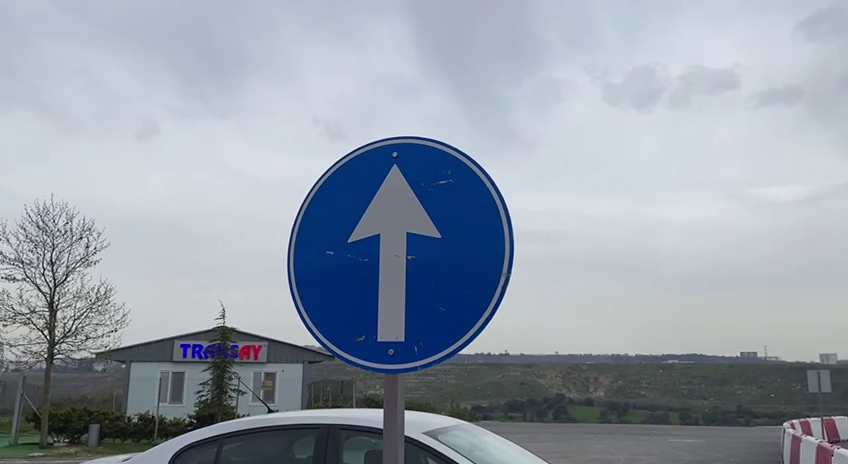forward: (277, 131, 522, 376)
